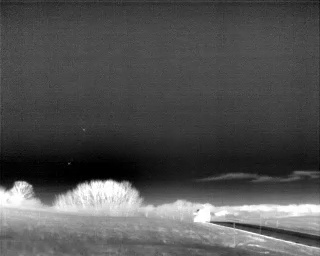BIRD: (81, 126, 88, 134)
